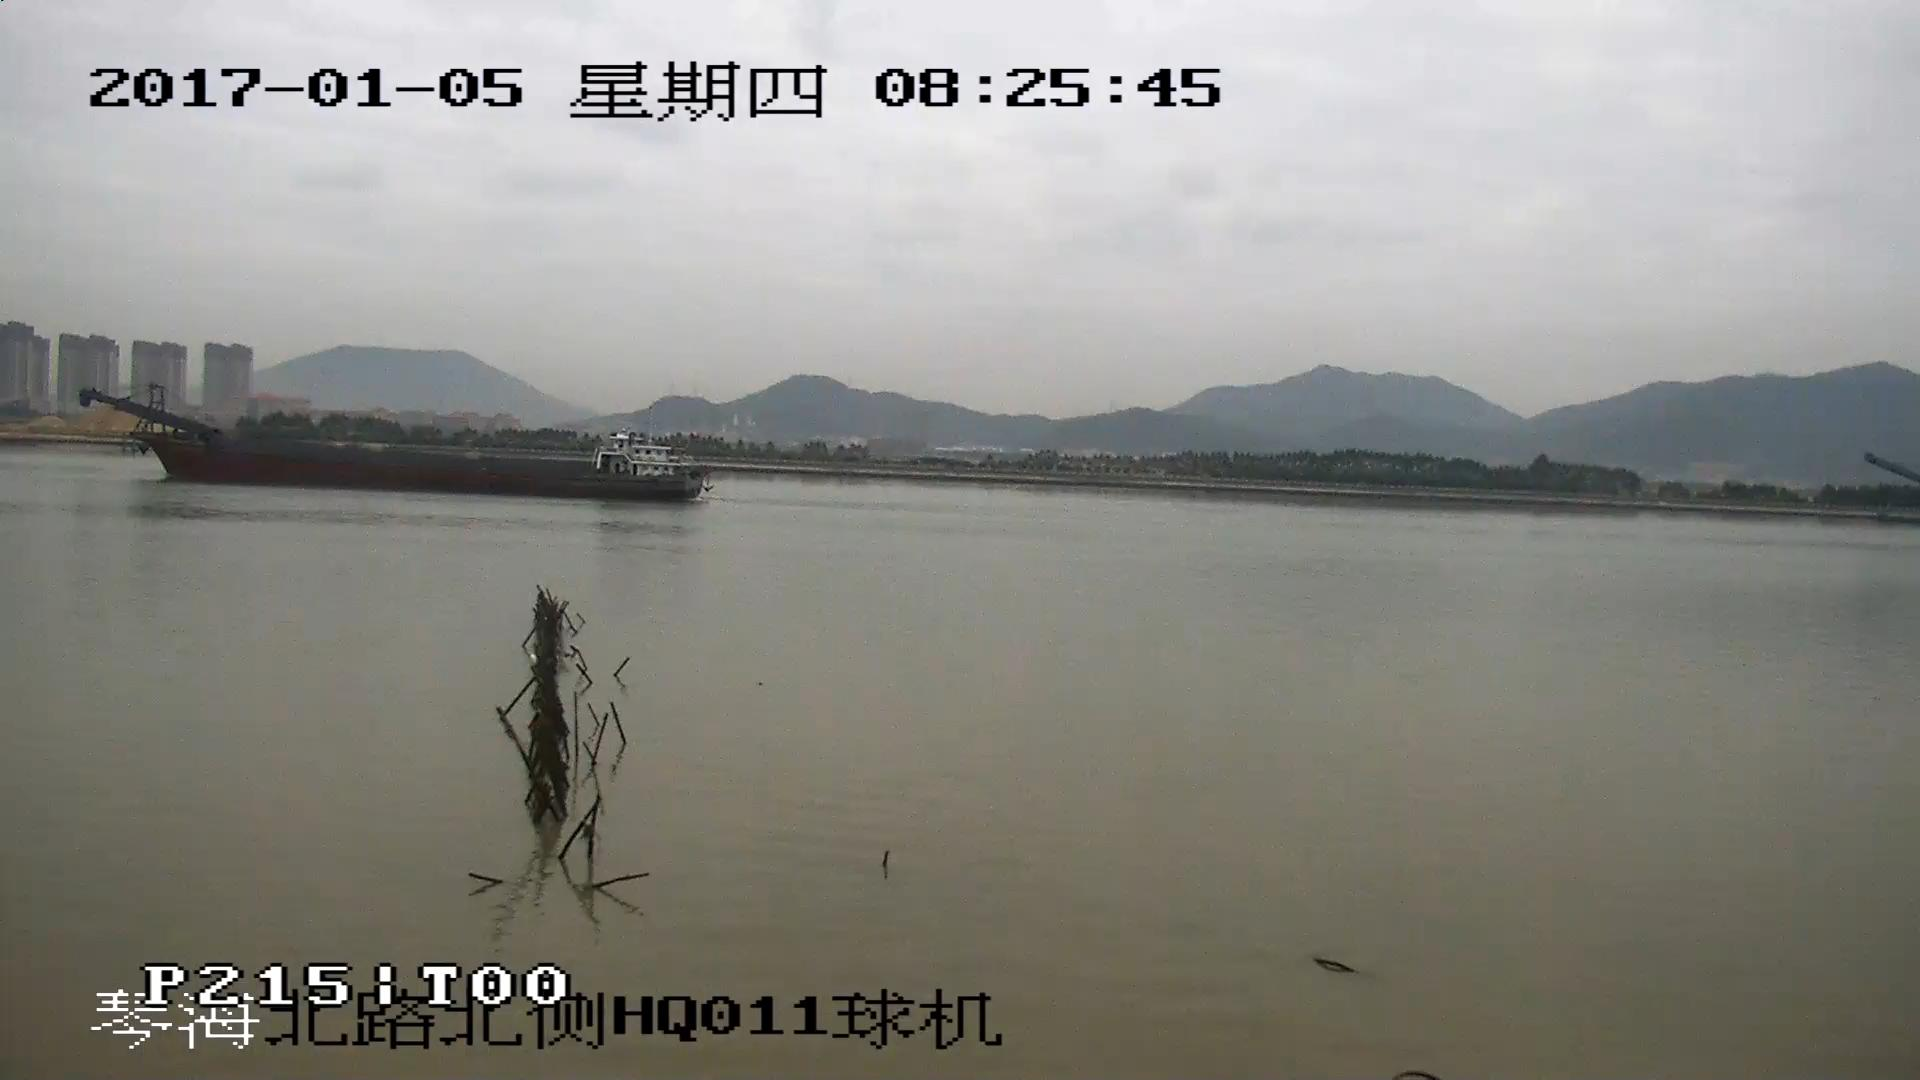bulk cargo carrier: (82, 391, 707, 501)
